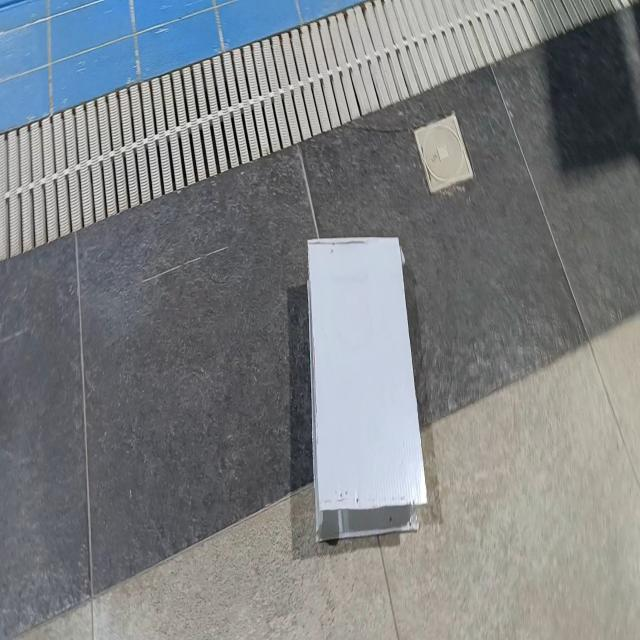Cuboid: (306, 234, 428, 543)
